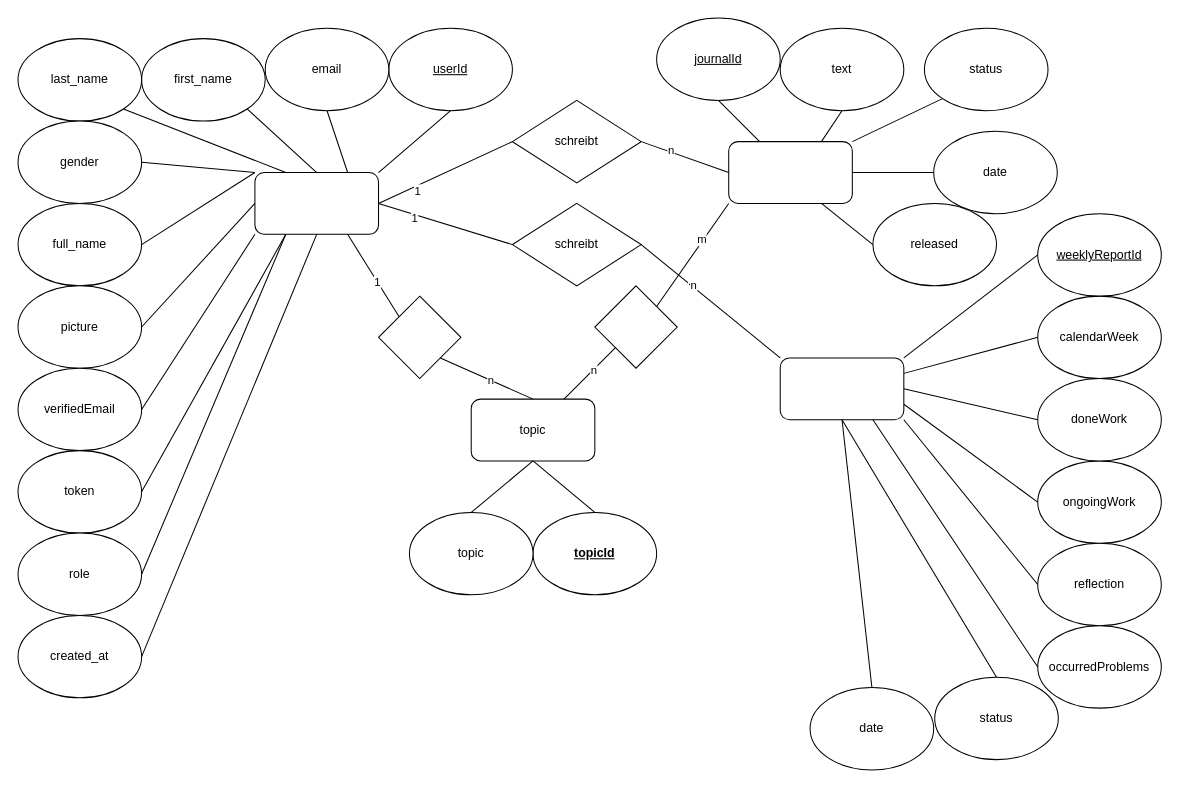
Some shapes in this 1179 by 788 pixel diagram are drawn without their labels. The shapes that lost their labels are listed below. From the top down, each one's centre as x and y in pixels, then its label:
the point at 790,172: journal
the point at 316,202: user
the point at 419,337: erstellt
the point at 635,326: in
the point at 841,388: weeklyReport
